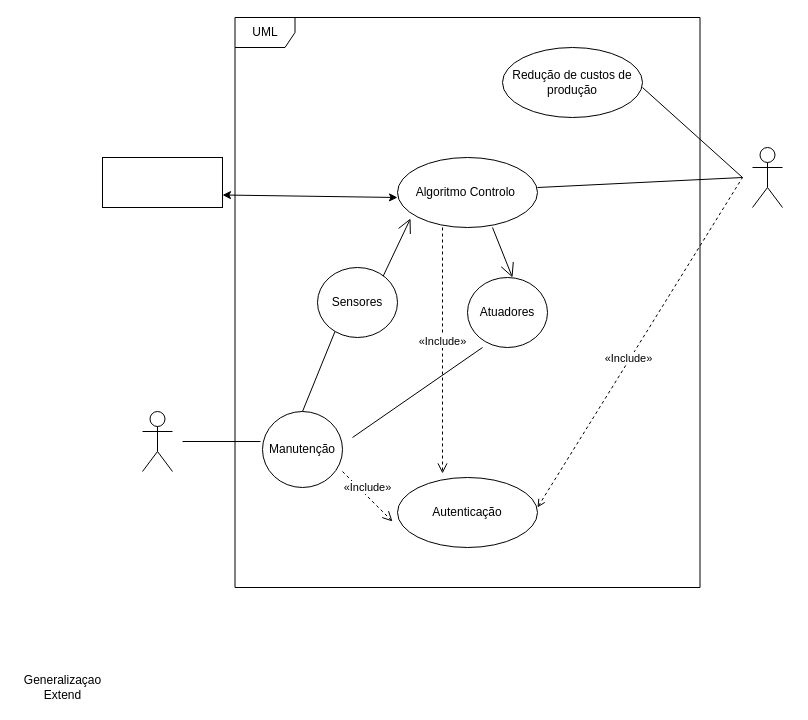
Image size: 808x720. Some labels were removed from this diagram. Here are the shapes that lost their labels. From the top down, the box of each, then its label:
(102, 156, 222, 208): «actor» Base de Dados consumos de energia
(752, 146, 782, 208): Manager
(142, 410, 172, 472): Production Diretor
